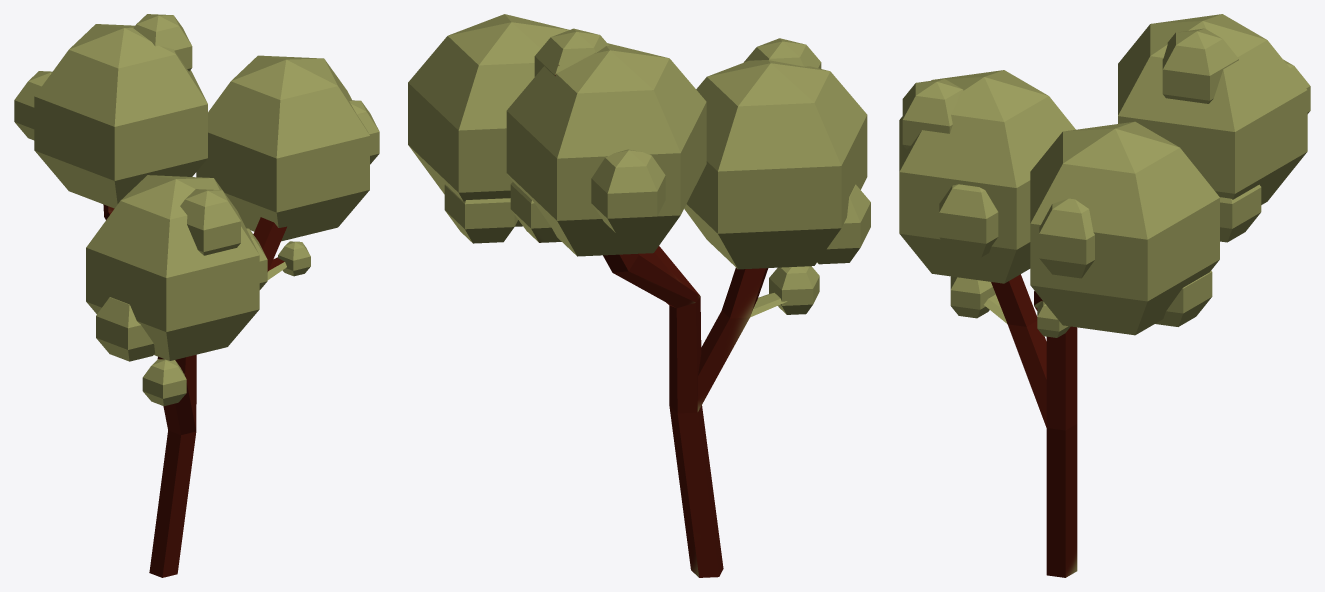
Rendered from Tree.fbx.
3 renders of one model, left to right at view 1: azimuth 30°, elevation 25°; view 2: azimuth 150°, elevation 25°; view 3: azimuth 270°, elevation 25°, orthographic. The views are drawn at different scales.
Visible parts, largest first — view 1: Tree; view 2: Tree; view 3: Tree.
Part boxes in pixels (x1,y1,x2,y2): Tree: [14, 14, 379, 577]; Tree: [408, 14, 870, 577]; Tree: [899, 14, 1310, 577].
Size of the model in its own units: 1212 by 1794 by 1172.
